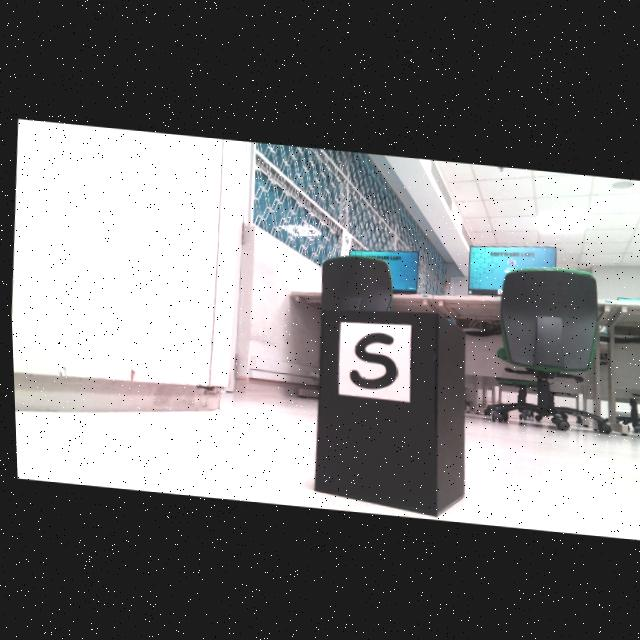S: (347, 331, 394, 386)
